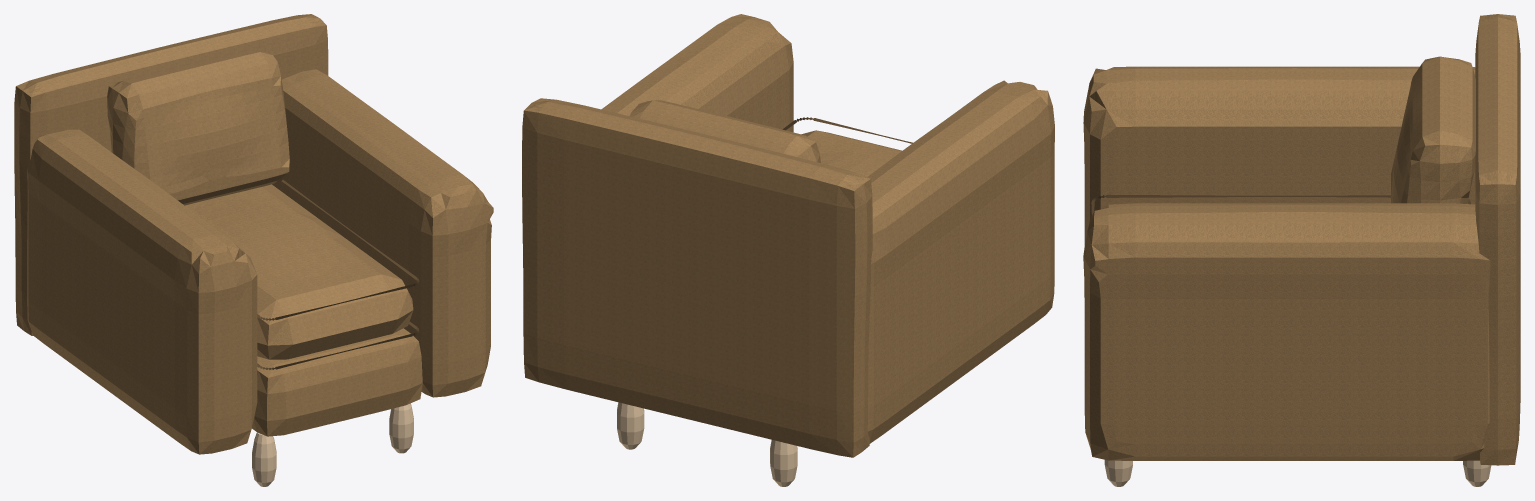
File: CAL-CLB-std.glb
The picture shows the model from 3 angles, left to right: view 1: azimuth 30°, elevation 25°; view 2: azimuth 150°, elevation 25°; view 3: azimuth 270°, elevation 25°; orthographic projection. The views are drawn at different scales.
Visible parts, largest first — view 1: arm-pad-l:fabric:eyJwcmVzZXQiOiJ2ZWx2ZXQiLCJ3YXJwIjoiY2FtZWw, arm-pad-r:fabric:eyJwcmVzZXQiOiJ2ZWx2ZXQiLCJ3YXJwIjoiY2FtZWw, inside-back:fabric:eyJwcmVzZXQiOiJ2ZWx2ZXQiLCJ3YXJwIjoiY2FtZ, seat:fabric:eyJwcmVzZXQiOiJ2ZWx2ZXQiLCJ3YXJwIjoiY2FtZWwiLCJ3, back-pad:fabric:eyJwcmVzZXQiOiJ2ZWx2ZXQiLCJ3YXJwIjoiY2FtZWwi, deck:fabric:eyJwcmVzZXQiOiJ2ZWx2ZXQiLCJ3YXJwIjoiY2FtZWwiLCJ3, seat:piping:pbr, leg-fl:pbr, leg-fr:pbr; view 2: back-pad:fabric:eyJwcmVzZXQiOiJ2ZWx2ZXQiLCJ3YXJwIjoiY2FtZWwi, arm-pad-l:fabric:eyJwcmVzZXQiOiJ2ZWx2ZXQiLCJ3YXJwIjoiY2FtZWw, arm-pad-r:fabric:eyJwcmVzZXQiOiJ2ZWx2ZXQiLCJ3YXJwIjoiY2FtZWw, inside-back:fabric:eyJwcmVzZXQiOiJ2ZWx2ZXQiLCJ3YXJwIjoiY2FtZ, seat:fabric:eyJwcmVzZXQiOiJ2ZWx2ZXQiLCJ3YXJwIjoiY2FtZWwiLCJ3, leg-br:pbr, leg-bl:pbr; view 3: arm-pad-r:fabric:eyJwcmVzZXQiOiJ2ZWx2ZXQiLCJ3YXJwIjoiY2FtZWw, arm-pad-l:fabric:eyJwcmVzZXQiOiJ2ZWx2ZXQiLCJ3YXJwIjoiY2FtZWw, back-pad:fabric:eyJwcmVzZXQiOiJ2ZWx2ZXQiLCJ3YXJwIjoiY2FtZWwi, inside-back:fabric:eyJwcmVzZXQiOiJ2ZWx2ZXQiLCJ3YXJwIjoiY2FtZ, seat:piping:pbr, leg-fr:pbr, leg-br:pbr.
Part boxes in pixels (left/top/right/bottom): arm-pad-l:fabric:eyJwcmVzZXQiOiJ2ZWx2ZXQiLCJ3YXJwIjoiY2FtZWw: left=27, top=129, right=257, bottom=454; arm-pad-r:fabric:eyJwcmVzZXQiOiJ2ZWx2ZXQiLCJ3YXJwIjoiY2FtZWw: left=272, top=69, right=493, bottom=397; inside-back:fabric:eyJwcmVzZXQiOiJ2ZWx2ZXQiLCJ3YXJwIjoiY2FtZ: left=107, top=49, right=289, bottom=205; seat:fabric:eyJwcmVzZXQiOiJ2ZWx2ZXQiLCJ3YXJwIjoiY2FtZWwiLCJ3: left=185, top=184, right=413, bottom=359; back-pad:fabric:eyJwcmVzZXQiOiJ2ZWx2ZXQiLCJ3YXJwIjoiY2FtZWwi: left=14, top=14, right=328, bottom=335; deck:fabric:eyJwcmVzZXQiOiJ2ZWx2ZXQiLCJ3YXJwIjoiY2FtZWwiLCJ3: left=252, top=328, right=422, bottom=436; seat:piping:pbr: left=257, top=180, right=419, bottom=369; leg-fl:pbr: left=252, top=432, right=276, bottom=486; leg-fr:pbr: left=389, top=403, right=413, bottom=453; back-pad:fabric:eyJwcmVzZXQiOiJ2ZWx2ZXQiLCJ3YXJwIjoiY2FtZWwi: left=522, top=98, right=872, bottom=457; arm-pad-l:fabric:eyJwcmVzZXQiOiJ2ZWx2ZXQiLCJ3YXJwIjoiY2FtZWw: left=867, top=80, right=1054, bottom=443; arm-pad-r:fabric:eyJwcmVzZXQiOiJ2ZWx2ZXQiLCJ3YXJwIjoiY2FtZWw: left=601, top=14, right=793, bottom=132; inside-back:fabric:eyJwcmVzZXQiOiJ2ZWx2ZXQiLCJ3YXJwIjoiY2FtZ: left=629, top=100, right=820, bottom=162; seat:fabric:eyJwcmVzZXQiOiJ2ZWx2ZXQiLCJ3YXJwIjoiY2FtZWwiLCJ3: left=801, top=130, right=901, bottom=176; leg-br:pbr: left=617, top=402, right=644, bottom=449; leg-bl:pbr: left=770, top=440, right=797, bottom=486; arm-pad-r:fabric:eyJwcmVzZXQiOiJ2ZWx2ZXQiLCJ3YXJwIjoiY2FtZWw: left=1083, top=203, right=1490, bottom=460; arm-pad-l:fabric:eyJwcmVzZXQiOiJ2ZWx2ZXQiLCJ3YXJwIjoiY2FtZWw: left=1083, top=66, right=1475, bottom=244; back-pad:fabric:eyJwcmVzZXQiOiJ2ZWx2ZXQiLCJ3YXJwIjoiY2FtZWwi: left=1475, top=14, right=1520, bottom=465; inside-back:fabric:eyJwcmVzZXQiOiJ2ZWx2ZXQiLCJ3YXJwIjoiY2FtZ: left=1391, top=56, right=1475, bottom=203; seat:piping:pbr: left=1091, top=194, right=1470, bottom=215; leg-fr:pbr: left=1104, top=460, right=1132, bottom=486; leg-br:pbr: left=1463, top=460, right=1491, bottom=486.
Size of the model in its own units: 0.8 by 0.76 by 0.85.
11 materials, 6 textured.
